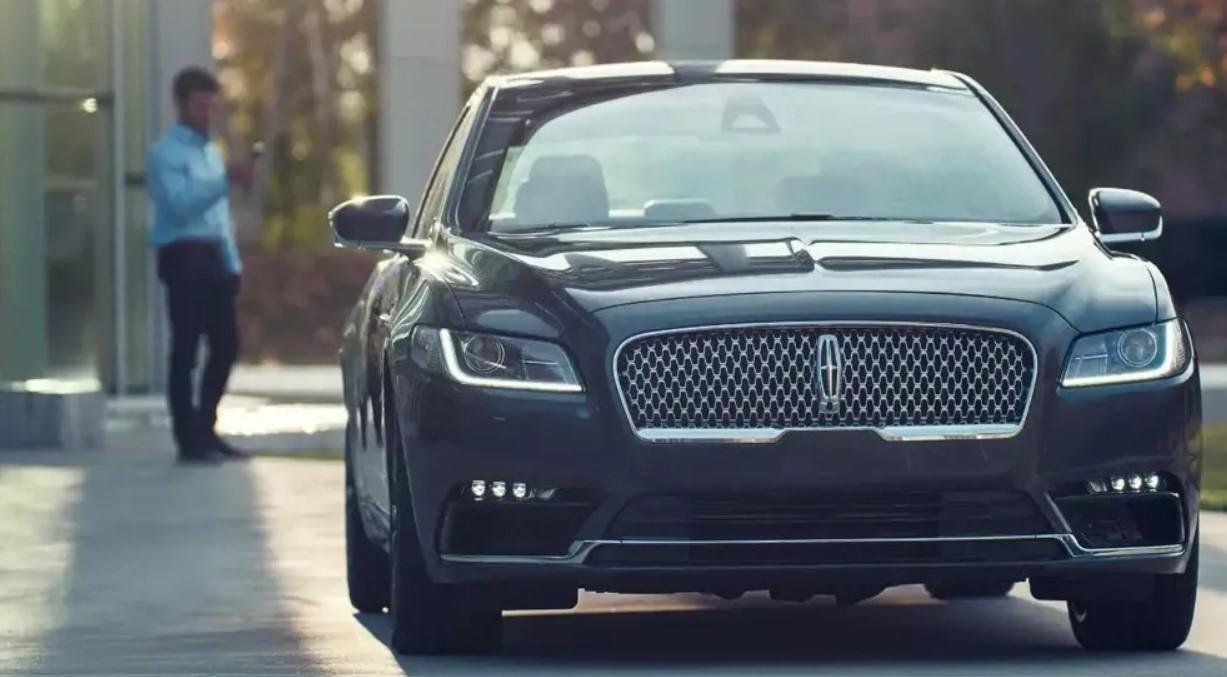lincoln: (812, 327, 850, 412)
